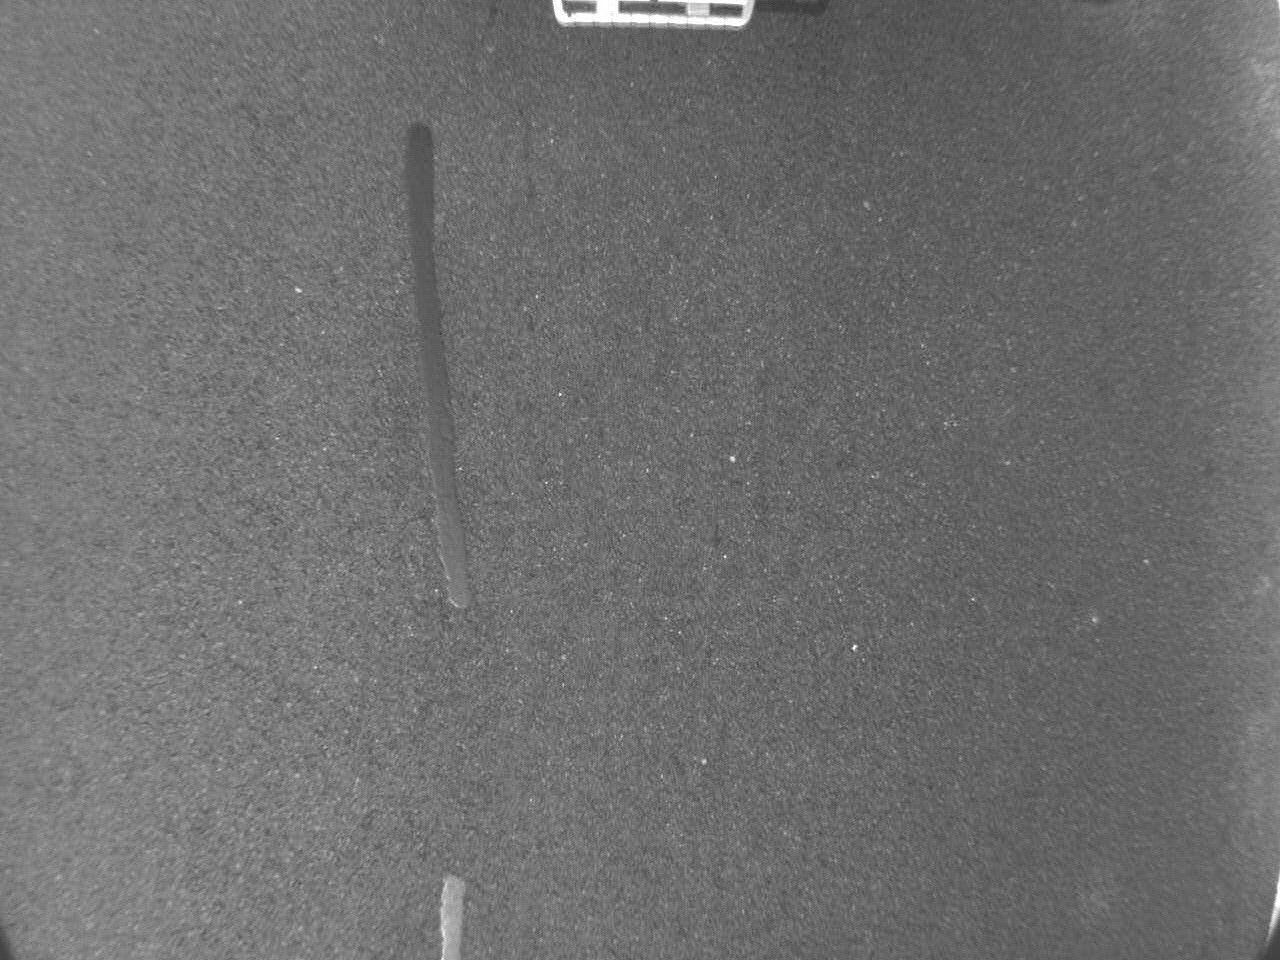sealed: (389, 105, 521, 618), (425, 860, 479, 960)
